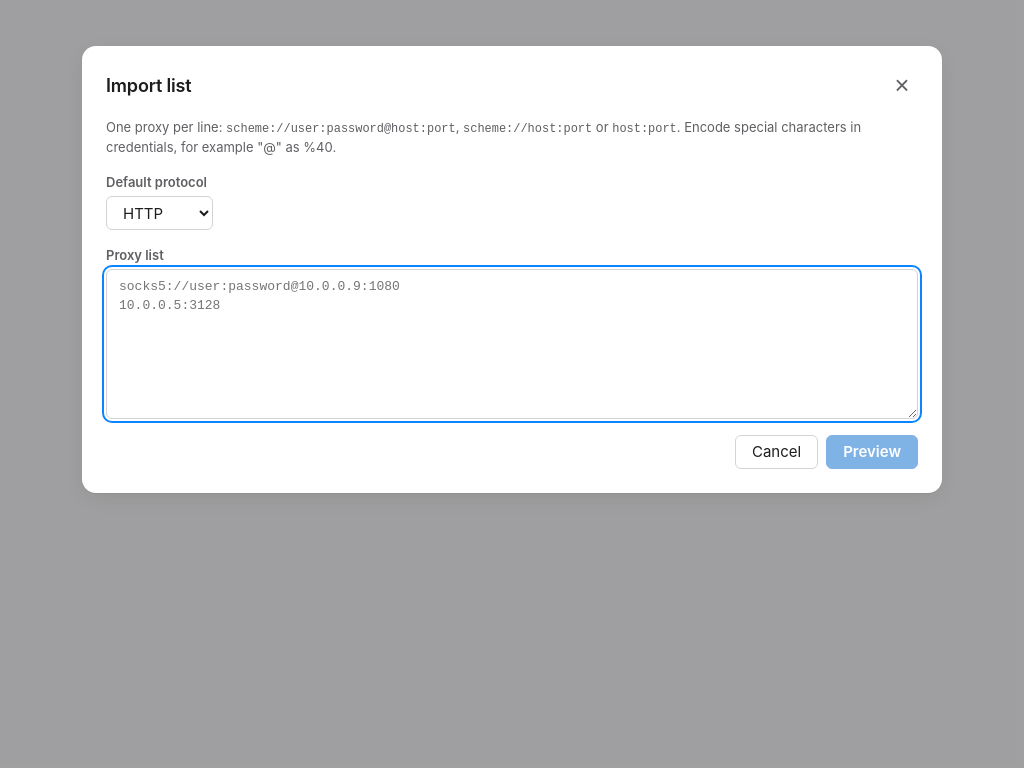
Test: ImportDialog › sends the text and the default protocol for the preview
Select "SOCKS5" in the dropdown labelled "Default protocol" at (160, 213), box 106,196 -> 213,230
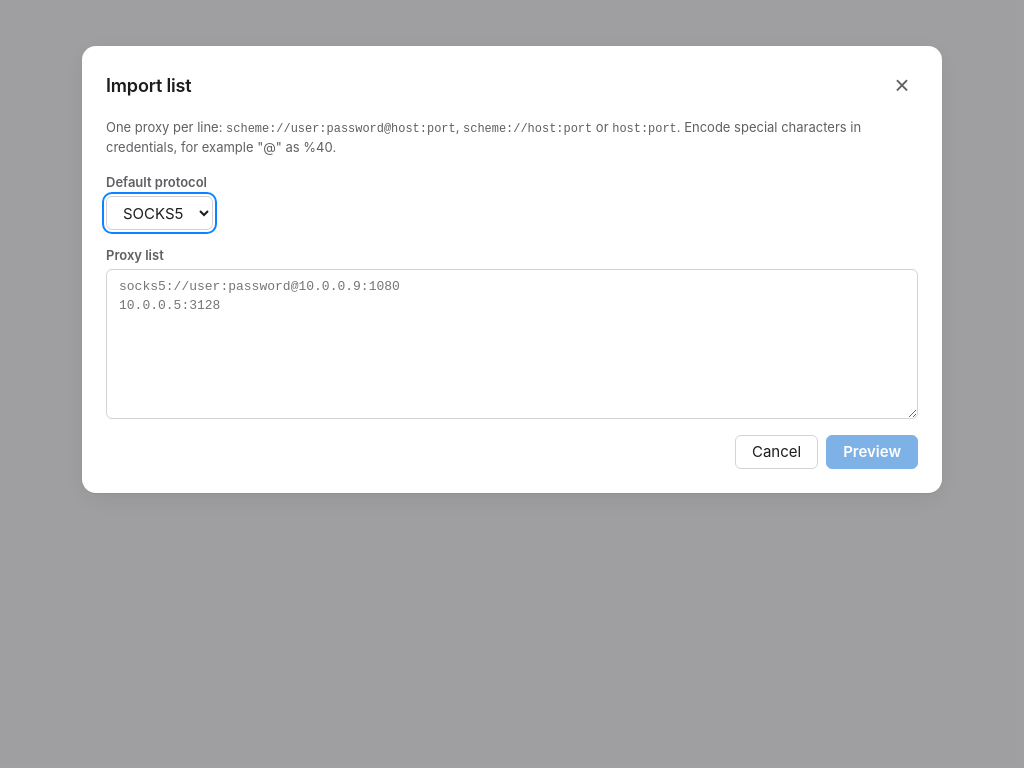
Type "10.0.0.1:1080" into the text box labelled "Proxy list".
click(512, 344); type("10.0.0.1:1080")  # box 106,269 -> 918,419
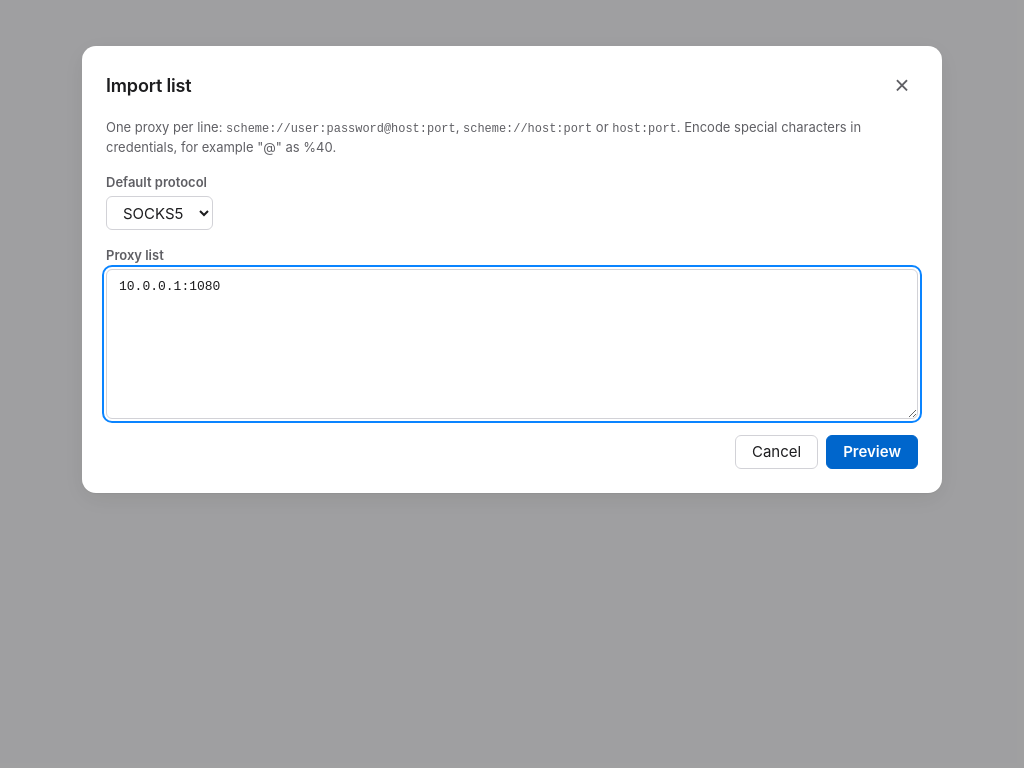
Click the button "Preview".
click(872, 452)  # box 826,435 -> 918,469
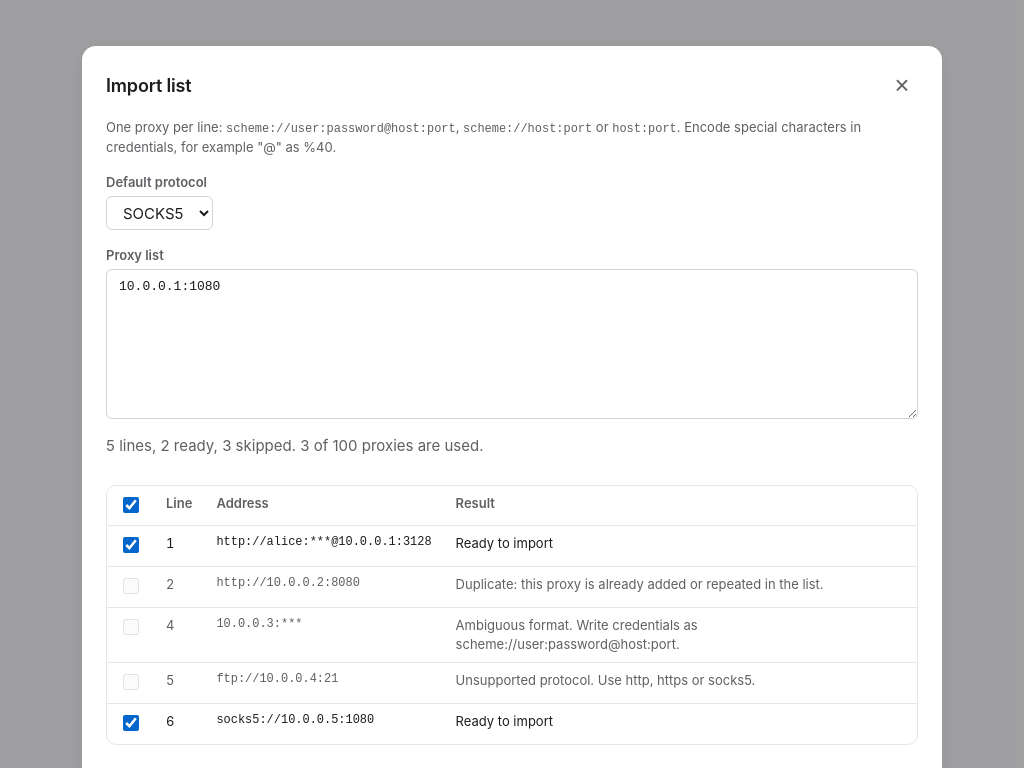
Expected: the table is shown, 107,486 -> 917,744
